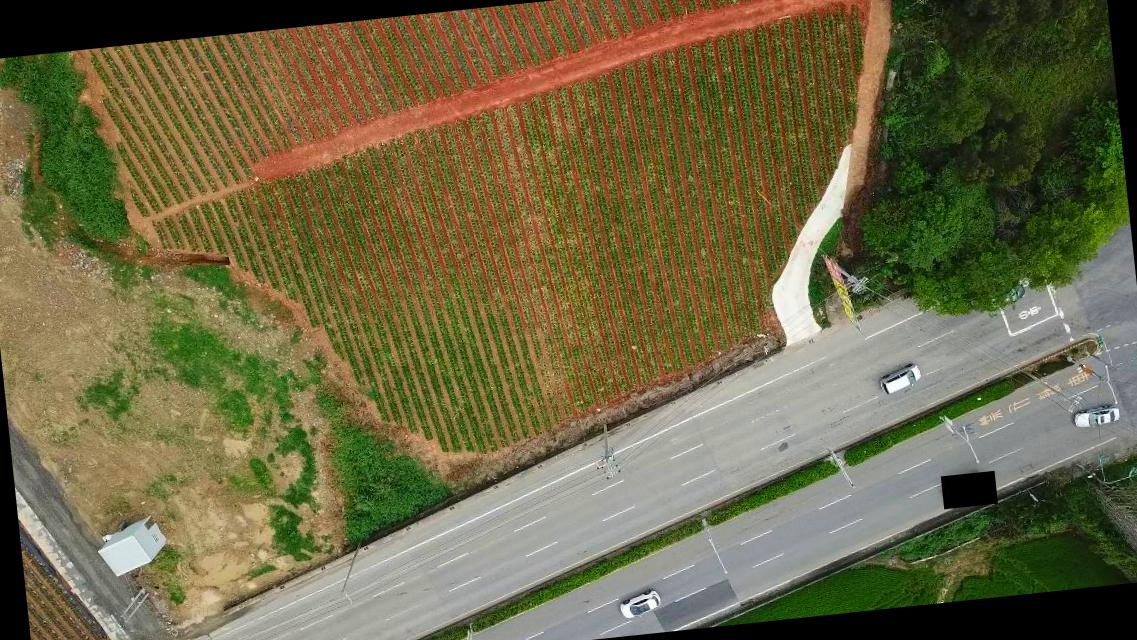vehicle: (878, 360, 923, 394), (618, 588, 664, 621), (1071, 403, 1121, 430)
